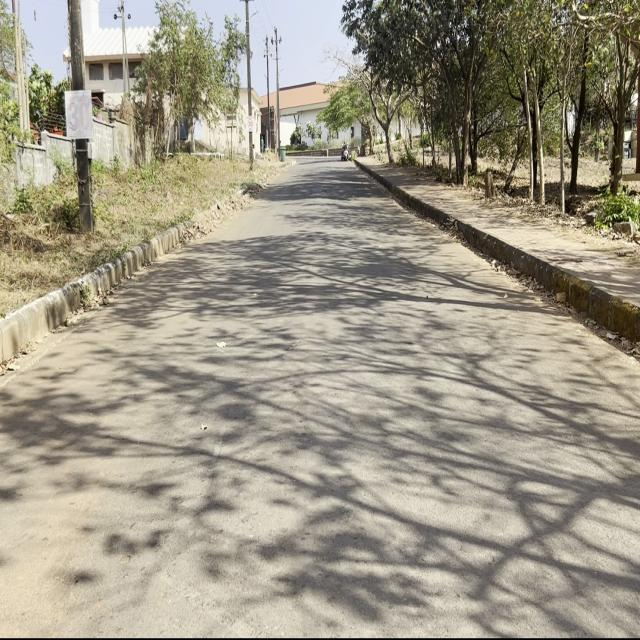Road: (4, 158, 636, 629)
